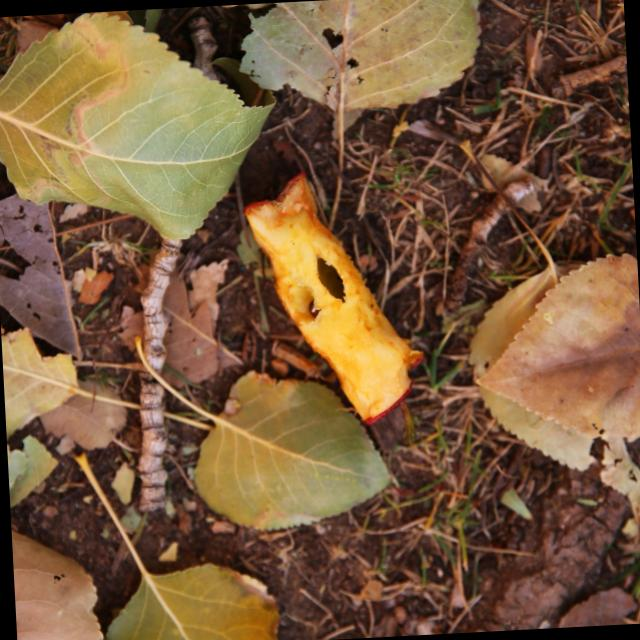apple_fruit: (239, 158, 436, 450)
